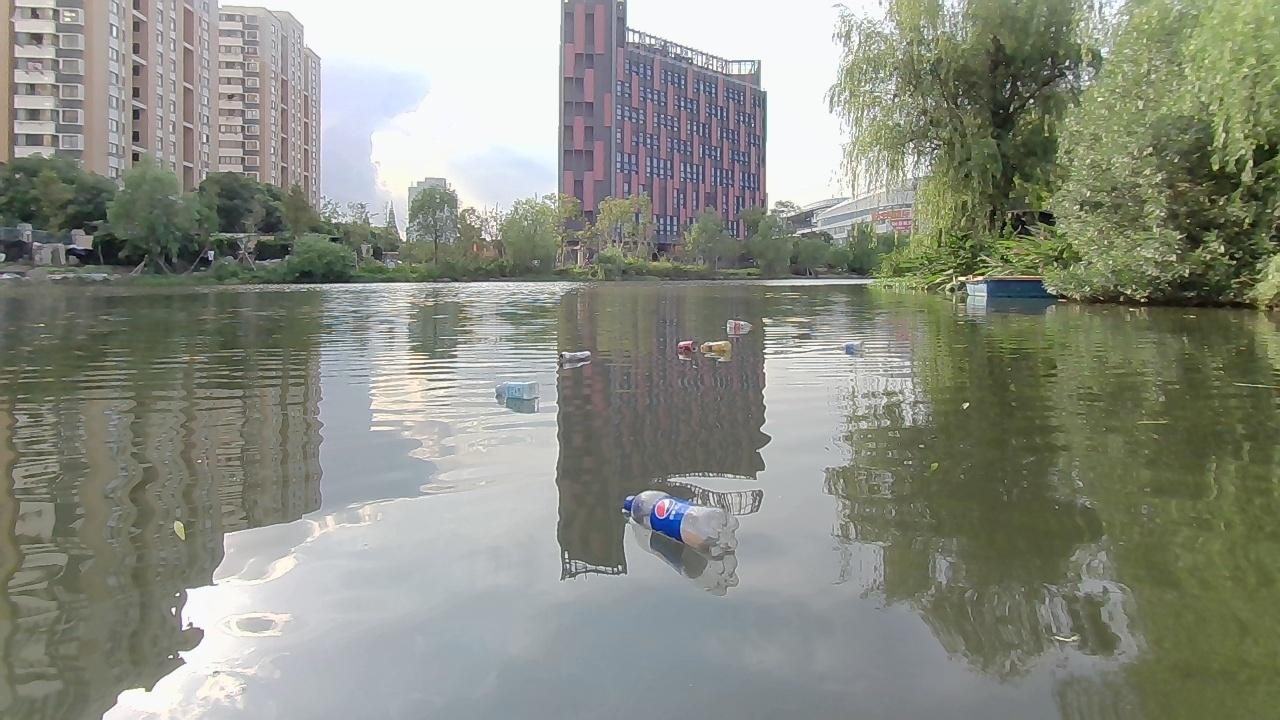bottle: (618, 485, 735, 557), (494, 382, 538, 407), (555, 346, 592, 372), (671, 335, 697, 357), (837, 339, 862, 361), (701, 338, 731, 356), (726, 318, 751, 336)
